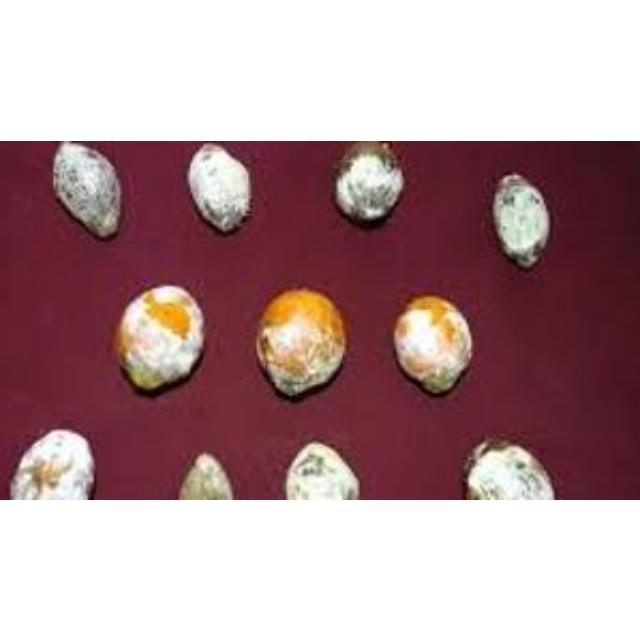damaged: (115, 284, 212, 392), (255, 286, 348, 394), (391, 292, 473, 393), (50, 140, 121, 238), (186, 141, 254, 233), (9, 428, 95, 499), (491, 170, 552, 268), (462, 436, 556, 499), (332, 140, 402, 224), (286, 442, 358, 498)
